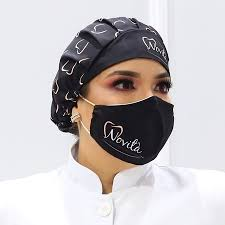with_mask_and_cap: (63, 18, 173, 165)
